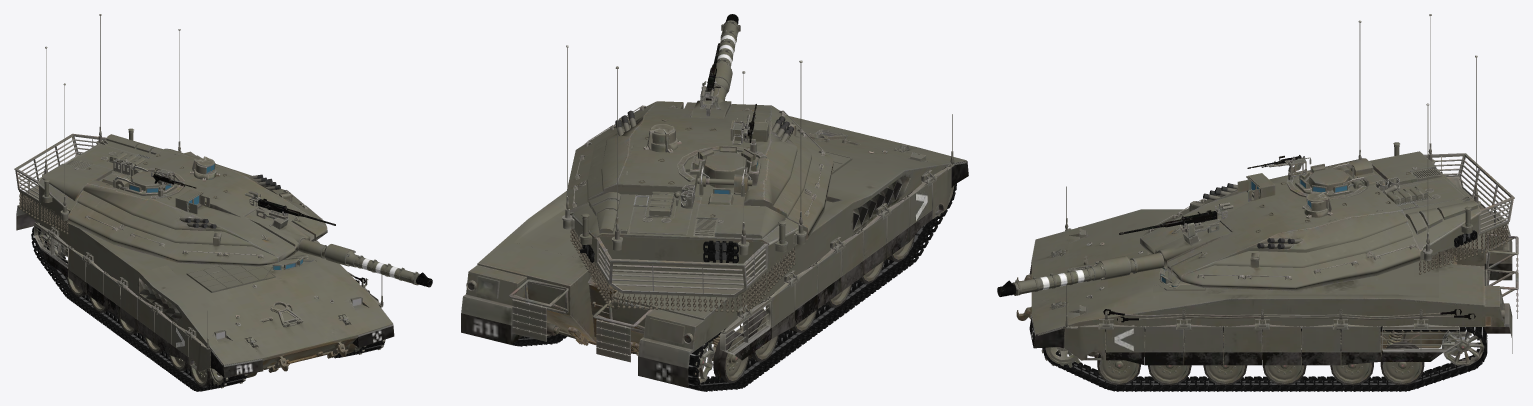
The model's file is merkava.glb.
The picture shows the model from 3 angles, left to right: view 1: azimuth 30°, elevation 25°; view 2: azimuth 150°, elevation 25°; view 3: azimuth 270°, elevation 25°; orthographic projection. The views are drawn at different scales.
Visible parts, largest first — view 1: merkava_mk4; view 2: merkava_mk4; view 3: merkava_mk4.
Boxes of the visible parts, box(x1,y1,x2,y2) form: merkava_mk4: box(14, 14, 432, 391); merkava_mk4: box(461, 14, 968, 391); merkava_mk4: box(997, 14, 1518, 391).
Bounding box in the file's own units: 5.91 × 6.4 × 10.71.
1 material, 1 textured.
